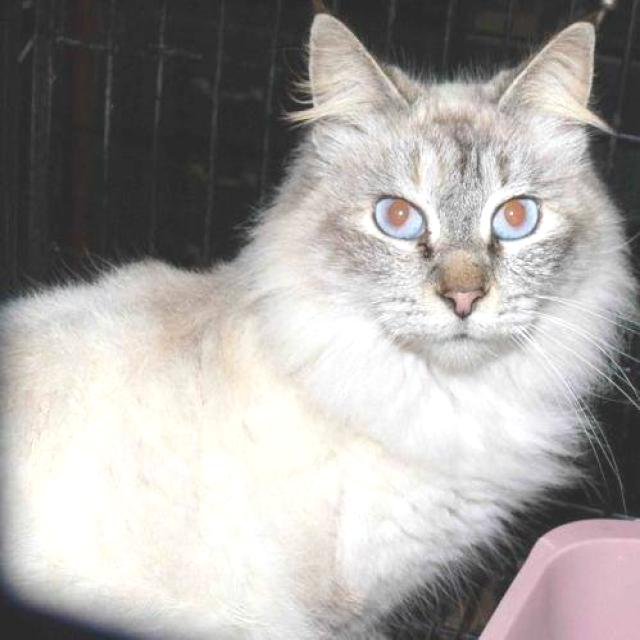Kucing: (6, 15, 622, 609)
